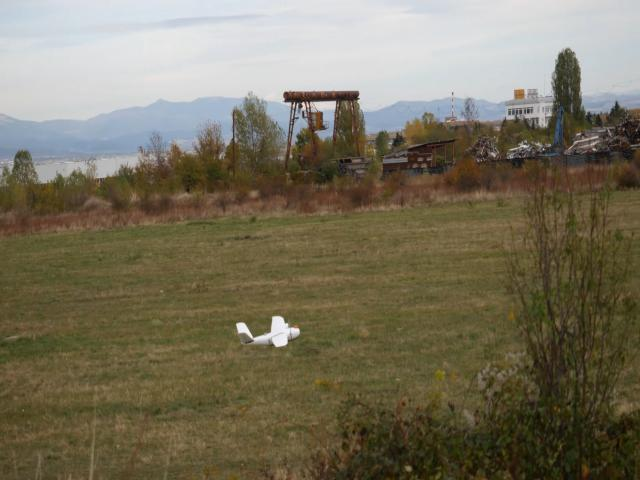plane: (236, 314, 300, 348)
